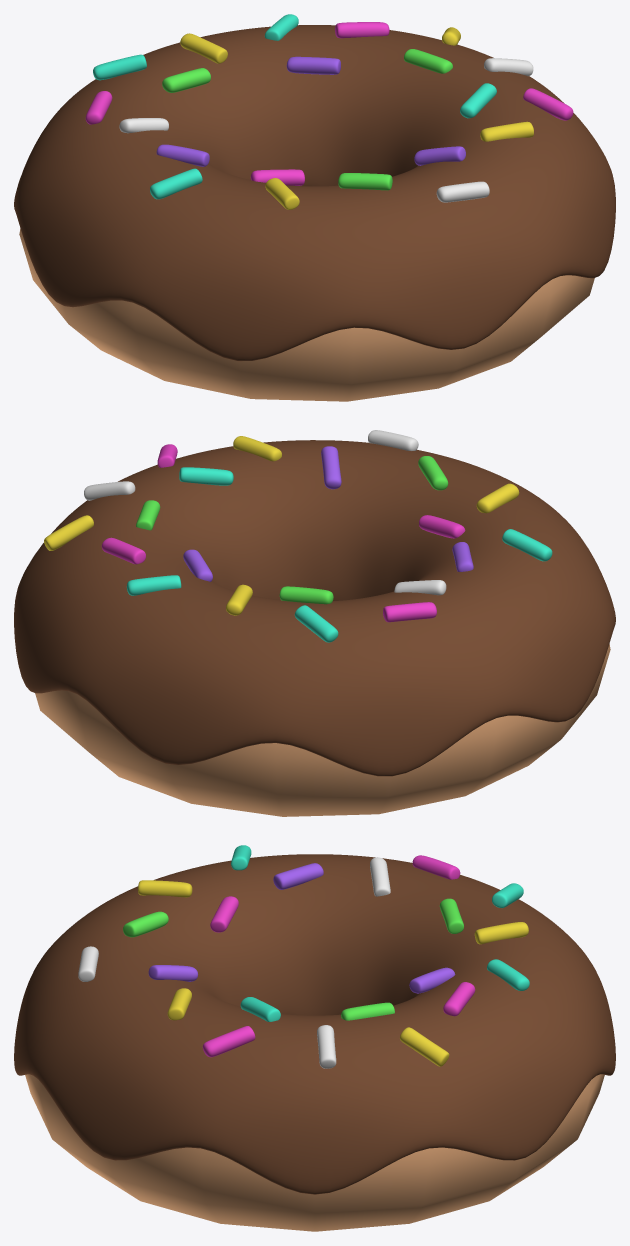
Rendered from dona.fbx.
3 views of the same model, one above another, from view 1: azimuth 30°, elevation 25°; view 2: azimuth 150°, elevation 25°; view 3: azimuth 270°, elevation 25° (orthographic).
Visible parts, largest first — view 1: Torus.001, Torus, Cube.007, Cube.012, Cube.015, Cube.010, Cube.016, Cube.005, Cube.002, Cube.009, Cube.008, Cube.018 (+10 smaller); view 2: Torus.001, Torus, Cube.019, Cube.020, Cube.012, Cube.004, Cube.010, Cube.006, Cube.009, Cube.017, Cube.005, Cube.011 (+8 smaller); view 3: Torus.001, Torus, Cube.004, Cube.002, Cube.014, Cube.008, Cube.013, Cube.016, Cube.001, Cube.017, Cube.019, Cube.006 (+10 smaller).
Boxes of the visible parts, x1,y1,x2,y2 form: Torus.001: (14,25,615,361); Torus: (19,228,594,401); Cube.007: (286,56,340,74); Cube.012: (150,168,202,199); Cube.015: (436,181,489,202); Cube.010: (93,54,146,80); Cube.016: (338,173,392,190); Cube.005: (335,22,389,38); Cube.002: (523,88,573,120); Cube.009: (162,68,210,92); Cube.008: (180,33,227,63); Cube.018: (480,121,533,141); Torus.001: (14,440,615,776); Torus: (35,644,610,816); Cube.019: (383,602,436,622); Cube.020: (179,467,233,485); Cube.012: (502,529,552,561); Cube.004: (44,515,93,550); Cube.010: (294,605,338,642); Cube.006: (126,575,181,595); Cube.009: (279,586,333,604); Cube.017: (321,446,341,489); Cube.005: (101,537,145,564); Cube.011: (419,515,465,538); Torus.001: (14,854,615,1194); Torus: (25,1074,604,1231); Cube.004: (400,1027,449,1066); Cube.002: (202,1026,255,1057); Cube.014: (138,880,192,897); Cube.008: (474,922,528,944); Cube.013: (273,863,323,889); Cube.016: (123,911,168,937); Cube.001: (317,1025,336,1068); Cube.017: (148,965,198,981); Cube.019: (412,855,460,879); Cube.006: (487,959,529,990).
Bounding box in the file's own units: 1.47 × 0.5596 × 1.47.
